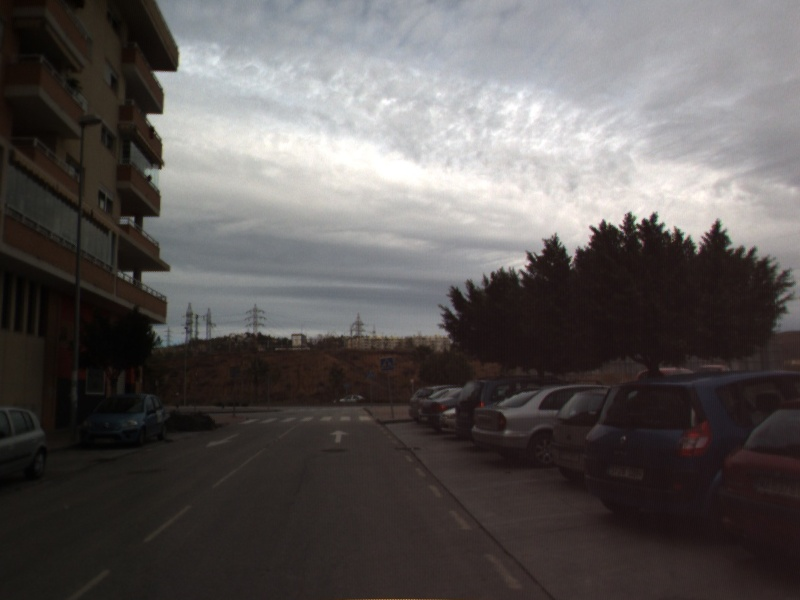STRAIGHT: (327, 428, 351, 445)
